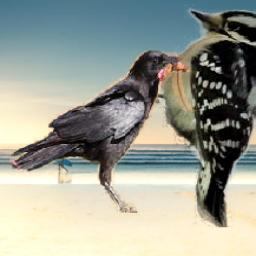Crow: (8, 44, 201, 214)
Woodpecker: (124, 5, 256, 228)
